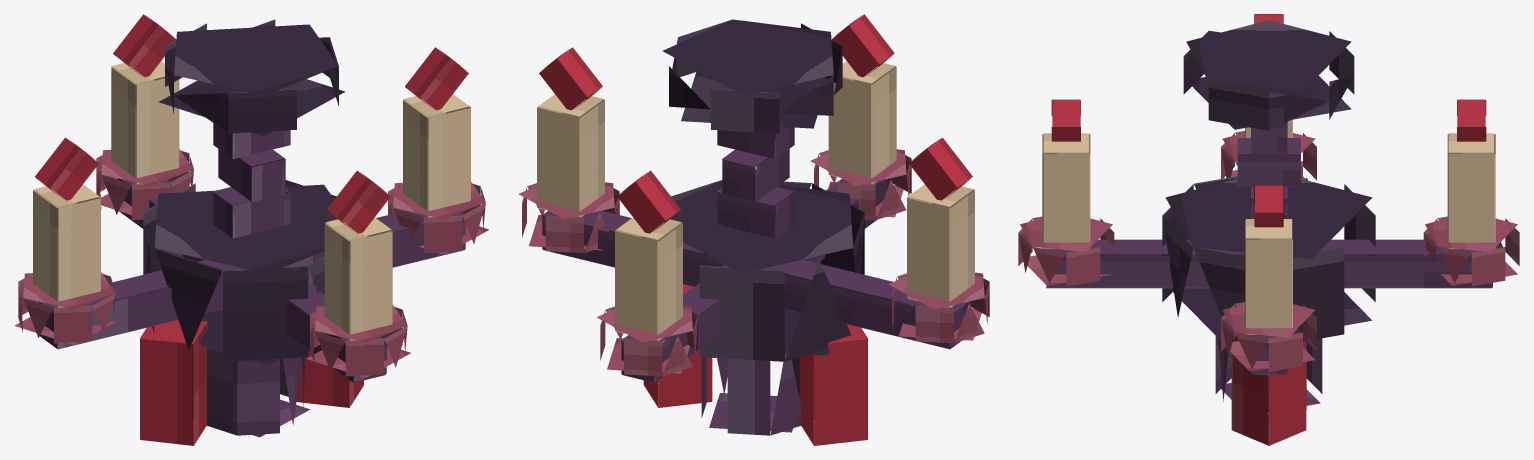
The model's file is dining_chandelier_gothic.glb.
The picture shows the model from 3 angles, left to right: view 1: azimuth 30°, elevation 25°; view 2: azimuth 150°, elevation 25°; view 3: azimuth 270°, elevation 25°; orthographic projection. The views are drawn at different scales.
Visible parts, largest first — view 1: ChandelierHub, CeilingMount, GothicSpike_L, Candle_3, Candle_2, Candle_1, LowerFinial, Candle_4, Arm_1, CandleCup_3, CandleCup_1, CandleCup_2 (+11 smaller); view 2: ChandelierHub, CeilingMount, Candle_4, Candle_1, Candle_2, Candle_3, GothicSpike_L, LowerFinial, Arm_1, CandleCup_4, CandleCup_1, CandleCup_2 (+12 smaller); view 3: ChandelierHub, CeilingMount, Arm_4, GothicSpike_R, Candle_4, Candle_3, Candle_2, Arm_3, CandleCup_2, CandleCup_4, CandleCup_3, ChainLink_2 (+6 smaller).
Boxes of the visible parts, x1=… form: ChandelierHub: x1=143, y1=180, x2=337, y2=365; CeilingMount: x1=158, y1=19, x2=345, y2=136; GothicSpike_L: x1=140, y1=320, x2=208, y2=445; Candle_3: x1=324, y1=217, x2=392, y2=340; Candle_2: x1=403, y1=94, x2=470, y2=217; Candle_1: x1=33, y1=184, x2=100, y2=307; LowerFinial: x1=207, y1=346, x2=310, y2=437; Candle_4: x1=111, y1=61, x2=179, y2=184; Arm_1: x1=38, y1=259, x2=245, y2=349; CandleCup_3: x1=306, y1=305, x2=410, y2=377; CandleCup_1: x1=14, y1=272, x2=118, y2=344; CandleCup_2: x1=388, y1=182, x2=488, y2=254; ChandelierHub: x1=670, y1=180, x2=864, y2=361; CeilingMount: x1=662, y1=19, x2=842, y2=133; Candle_4: x1=615, y1=217, x2=682, y2=340; Candle_1: x1=907, y1=184, x2=974, y2=307; Candle_2: x1=537, y1=94, x2=604, y2=217; Candle_3: x1=828, y1=61, x2=896, y2=184; GothicSpike_L: x1=799, y1=324, x2=867, y2=445; LowerFinial: x1=701, y1=353, x2=800, y2=435; Arm_1: x1=764, y1=259, x2=969, y2=349; CandleCup_4: x1=596, y1=305, x2=697, y2=376; CandleCup_1: x1=888, y1=272, x2=989, y2=343; CandleCup_2: x1=518, y1=182, x2=619, y2=253; ChandelierHub: x1=1162, y1=176, x2=1375, y2=341; CeilingMount: x1=1183, y1=20, x2=1354, y2=130; Arm_4: x1=1320, y1=239, x2=1492, y2=288; GothicSpike_R: x1=1231, y1=332, x2=1306, y2=445; Candle_4: x1=1447, y1=133, x2=1495, y2=249; Candle_3: x1=1042, y1=133, x2=1090, y2=249; Candle_2: x1=1245, y1=219, x2=1292, y2=334; Arm_3: x1=1046, y1=239, x2=1244, y2=288; CandleCup_2: x1=1221, y1=302, x2=1316, y2=371; CandleCup_4: x1=1423, y1=216, x2=1519, y2=286; CandleCup_3: x1=1018, y1=216, x2=1114, y2=286; ChainLink_2: x1=1237, y1=138, x2=1300, y2=186.
Size of the model in its own units: 0.94 by 0.7 by 0.94.
Materials: 1 (1 with a texture image).
